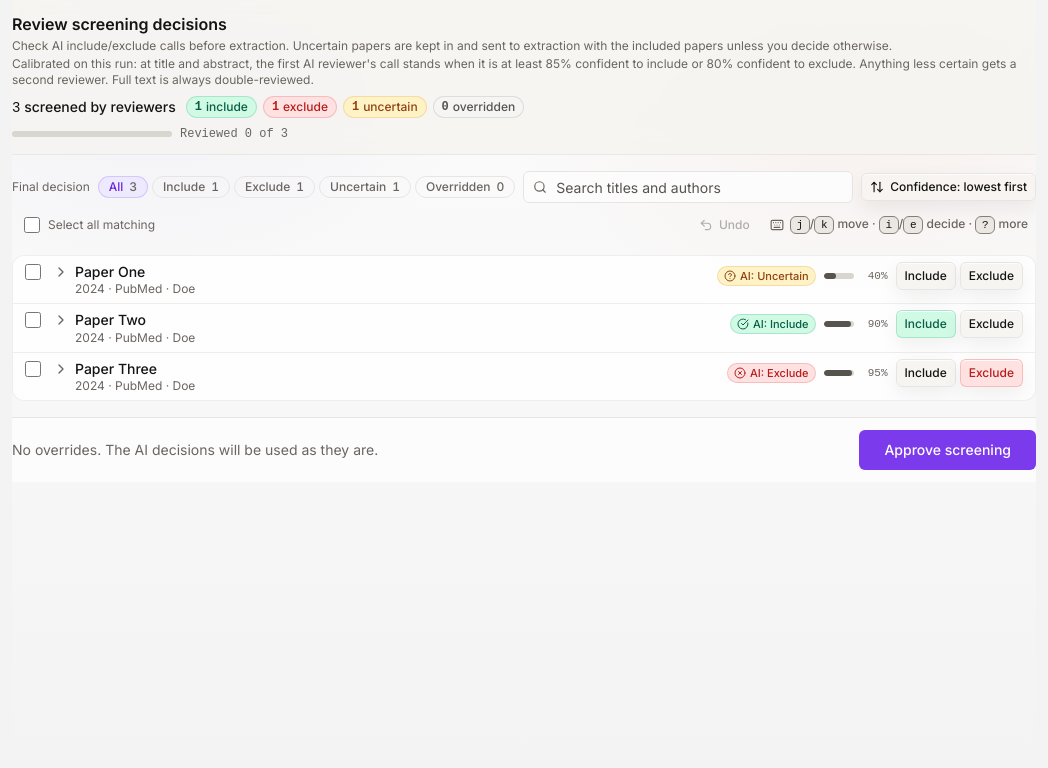
Test: ScreeningReviewView › shows who decided and why a paper was excluded, and lets it be rescued
Click the button "Exclude 1" at {"x": 275, "y": 187}, box [234,176,315,198]
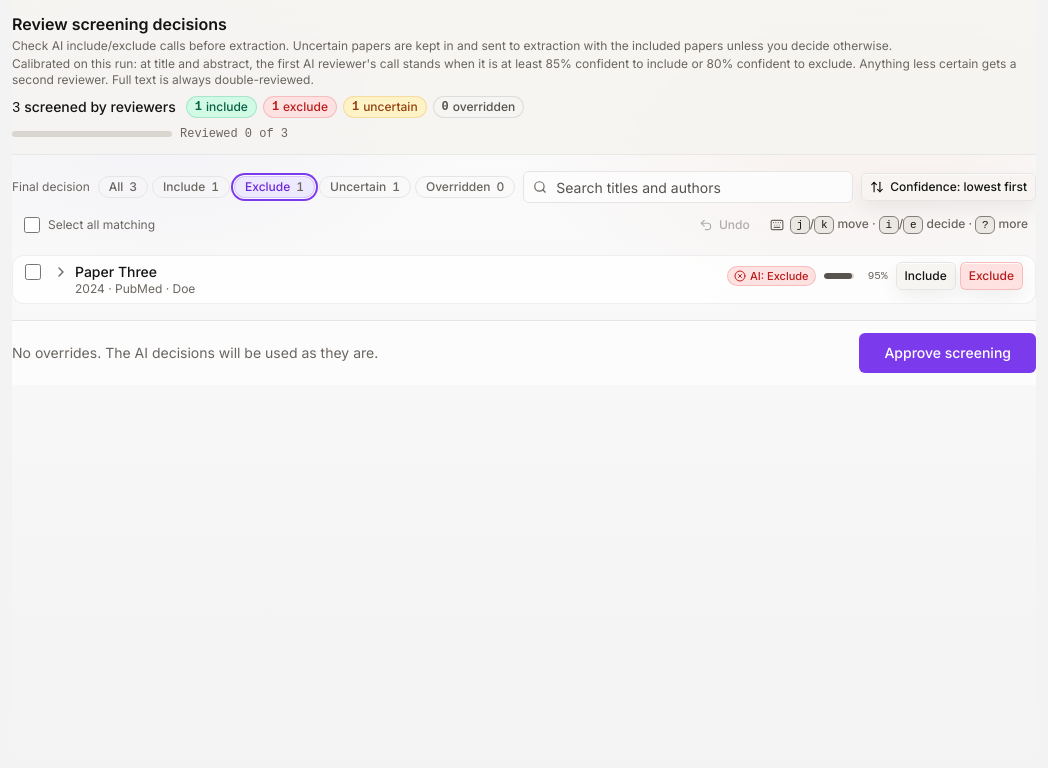
Click the button "Paper Three 2024 · PubMed · Doe" at {"x": 116, "y": 272}, box [53,262,715,297]
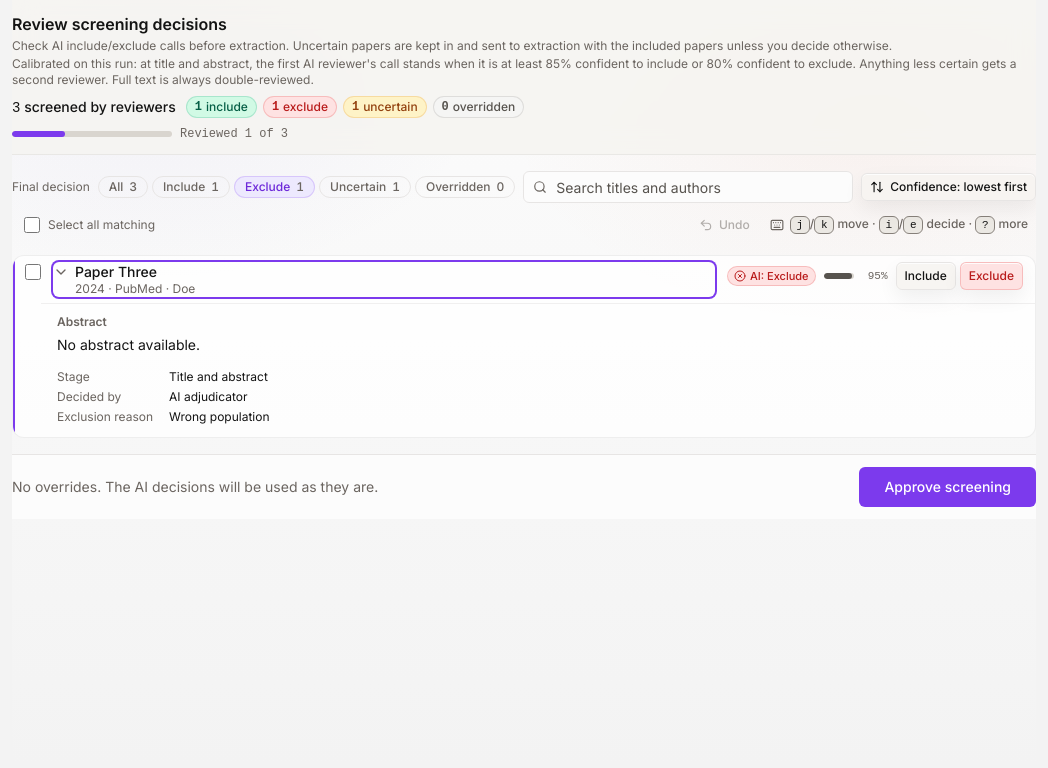
expect the text "AI adjudicator" is shown: met, box [169,389,248,404]
expect the text "Wrong population" is shown: met, box [169,409,270,424]
Click the button "Include" at {"x": 926, "y": 276}, box [896,262,956,290]
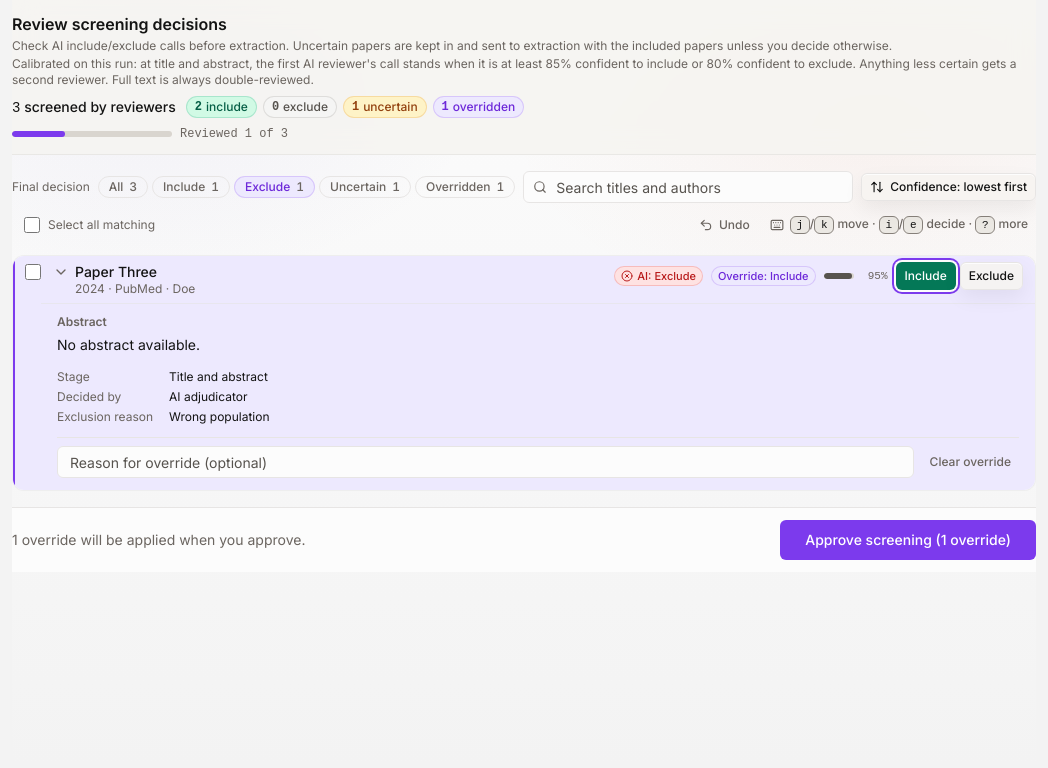
expect the text "Override: Include" is shown: met, box [711,266,816,286]
